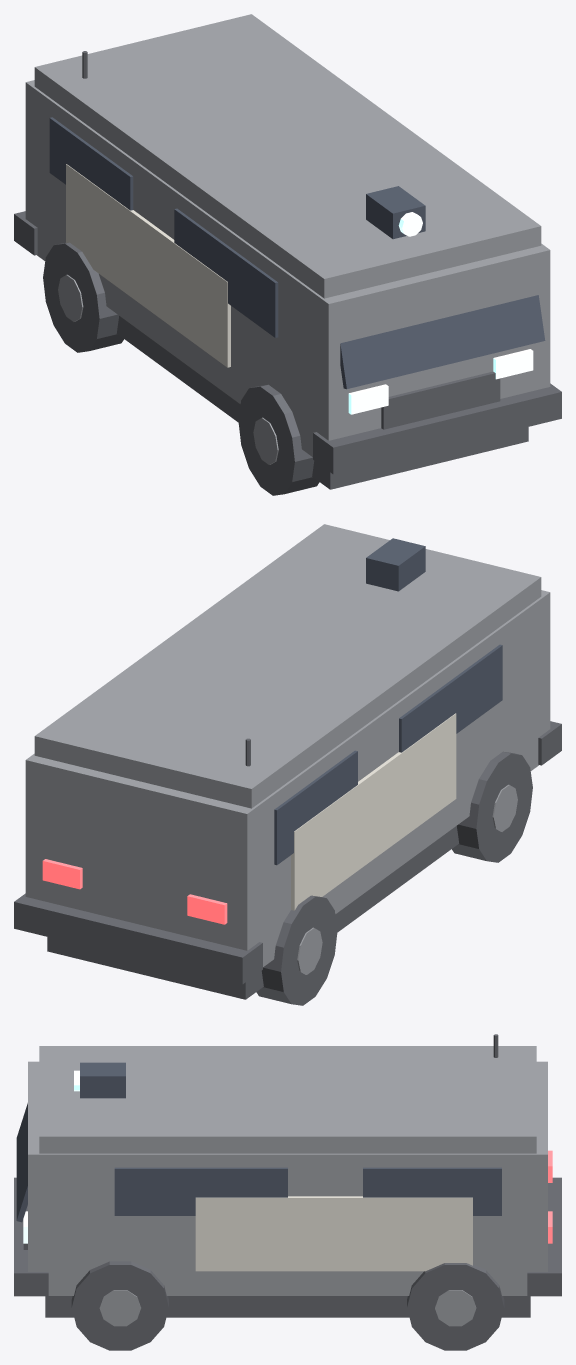
Rendered from van.glb.
3 renders of one model, top to bottom at view 1: azimuth 30°, elevation 25°; view 2: azimuth 150°, elevation 25°; view 3: azimuth 270°, elevation 25°, orthographic. The views are drawn at different scales.
Visible parts, largest first — view 1: Body, PanelR, WheelFR, WheelRR, SpotlightHousing; view 2: Body, PanelR, WheelFR, WheelRR, SpotlightHousing; view 3: Body, PanelL, WheelFL, WheelRL, SpotlightHousing.
Part boxes in pixels (x1,y1,x2,y2): Body: (14, 14, 561, 489); PanelR: (66, 164, 230, 367); WheelFR: (238, 384, 319, 495); WheelRR: (43, 242, 123, 352); SpotlightHousing: (366, 186, 425, 239); Body: (14, 524, 561, 999); PanelR: (291, 713, 456, 910); WheelFR: (452, 751, 532, 862); WheelRR: (256, 895, 337, 1005); SpotlightHousing: (366, 538, 425, 591); Body: (14, 1034, 561, 1317); PanelL: (195, 1196, 472, 1271); WheelFL: (71, 1261, 168, 1350); WheelRL: (407, 1263, 504, 1350); SpotlightHousing: (74, 1062, 125, 1098).
Size of the model in its own units: 2.06 by 2.21 by 4.74.
